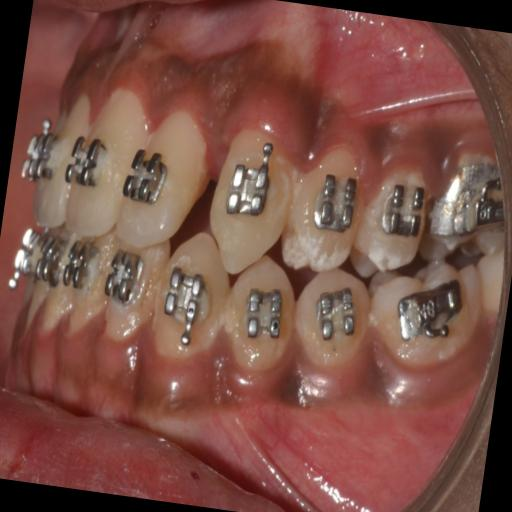correct_brace: (280, 142, 365, 276), (292, 267, 374, 375), (221, 134, 280, 226), (120, 136, 176, 217), (236, 280, 292, 353), (161, 268, 212, 347), (308, 279, 359, 356)
incorrect_brace: (115, 108, 217, 256), (148, 228, 234, 362), (312, 168, 356, 237)
